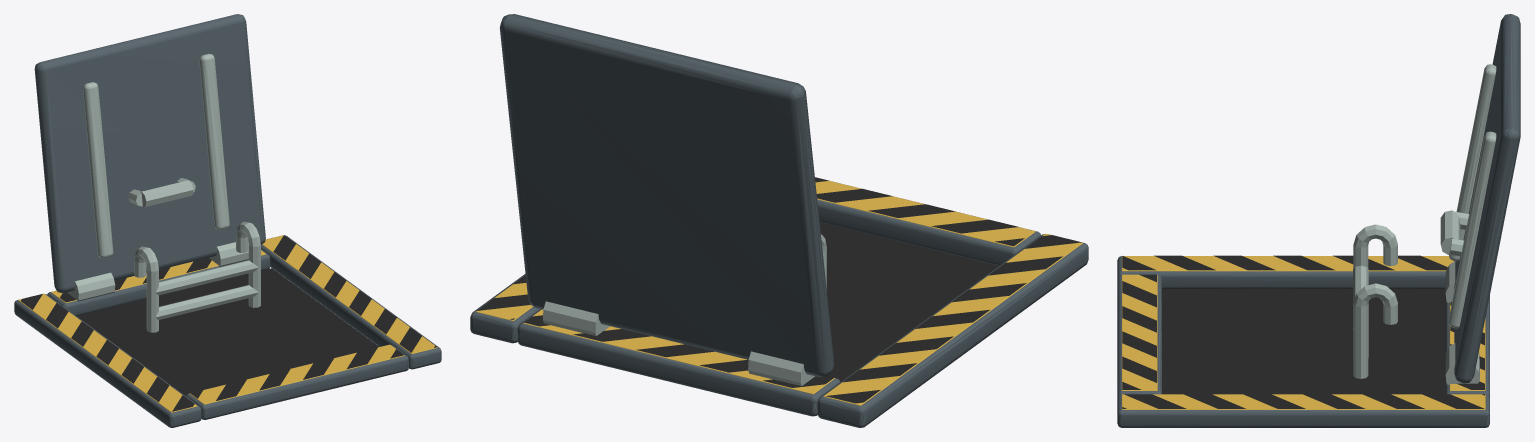
Rendered from floor_hatch.glb.
The picture shows the model from 3 angles, left to right: view 1: azimuth 30°, elevation 25°; view 2: azimuth 150°, elevation 25°; view 3: azimuth 270°, elevation 25°; orthographic projection. The views are drawn at different scales.
Parts seen in each view (by area): view 1: Occlude_Lid_Mesh, Keep_Mesh; view 2: Occlude_Lid_Mesh, Keep_Mesh; view 3: Keep_Mesh, Occlude_Lid_Mesh.
Part boxes in pixels (left/top/right/bottom): Occlude_Lid_Mesh: left=34, top=14, right=265, bottom=301; Keep_Mesh: left=14, top=221, right=441, bottom=427; Occlude_Lid_Mesh: left=499, top=14, right=834, bottom=386; Keep_Mesh: left=470, top=177, right=1088, bottom=427; Keep_Mesh: left=1117, top=224, right=1489, bottom=427; Occlude_Lid_Mesh: left=1440, top=14, right=1520, bottom=384.
Size of the model in its own units: 1.5 by 1.24 by 1.62.
